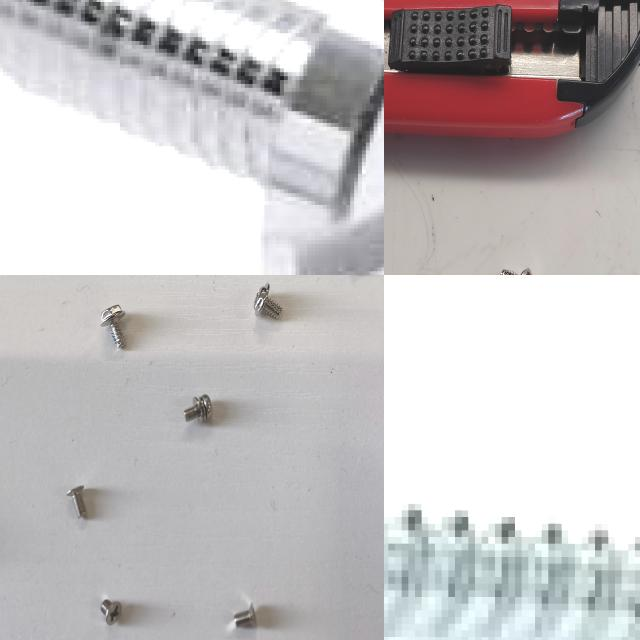Screw: (0, 0, 384, 275), (384, 510, 640, 640), (100, 302, 128, 353), (252, 280, 284, 324), (183, 392, 214, 427), (231, 600, 260, 632), (66, 483, 87, 521), (99, 597, 123, 627), (498, 263, 537, 275)
